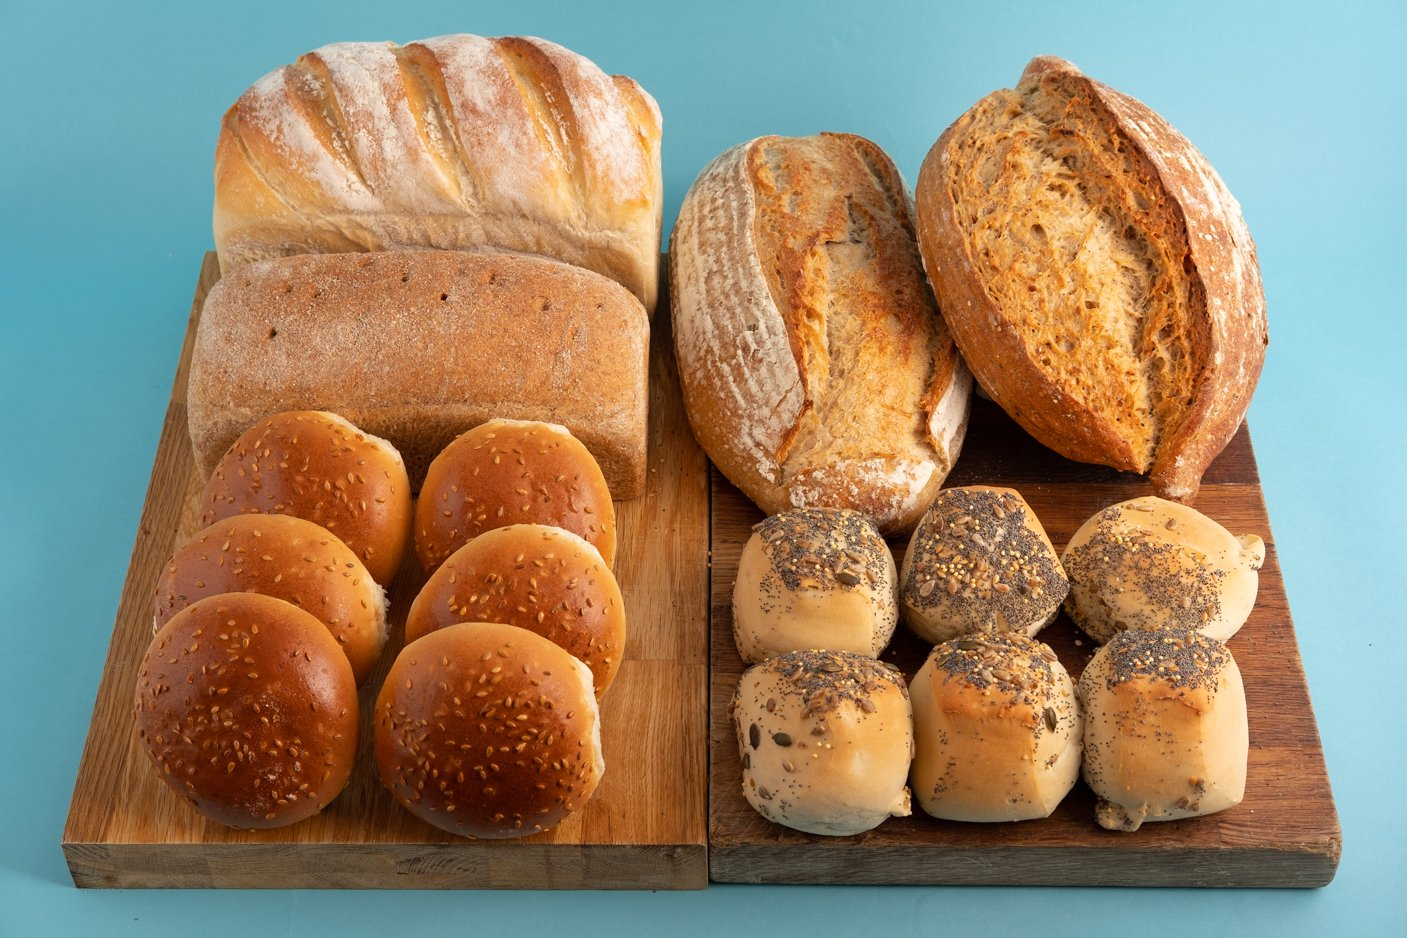Bread: (899, 64, 1275, 495), (196, 12, 694, 280), (153, 250, 672, 495), (370, 621, 634, 836), (727, 490, 894, 821), (125, 593, 351, 821), (1068, 621, 1272, 840), (908, 655, 1082, 817)
